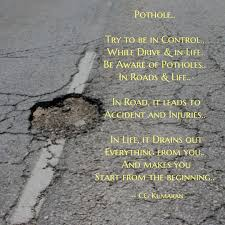pothole: (21, 91, 104, 144), (9, 148, 64, 219)
